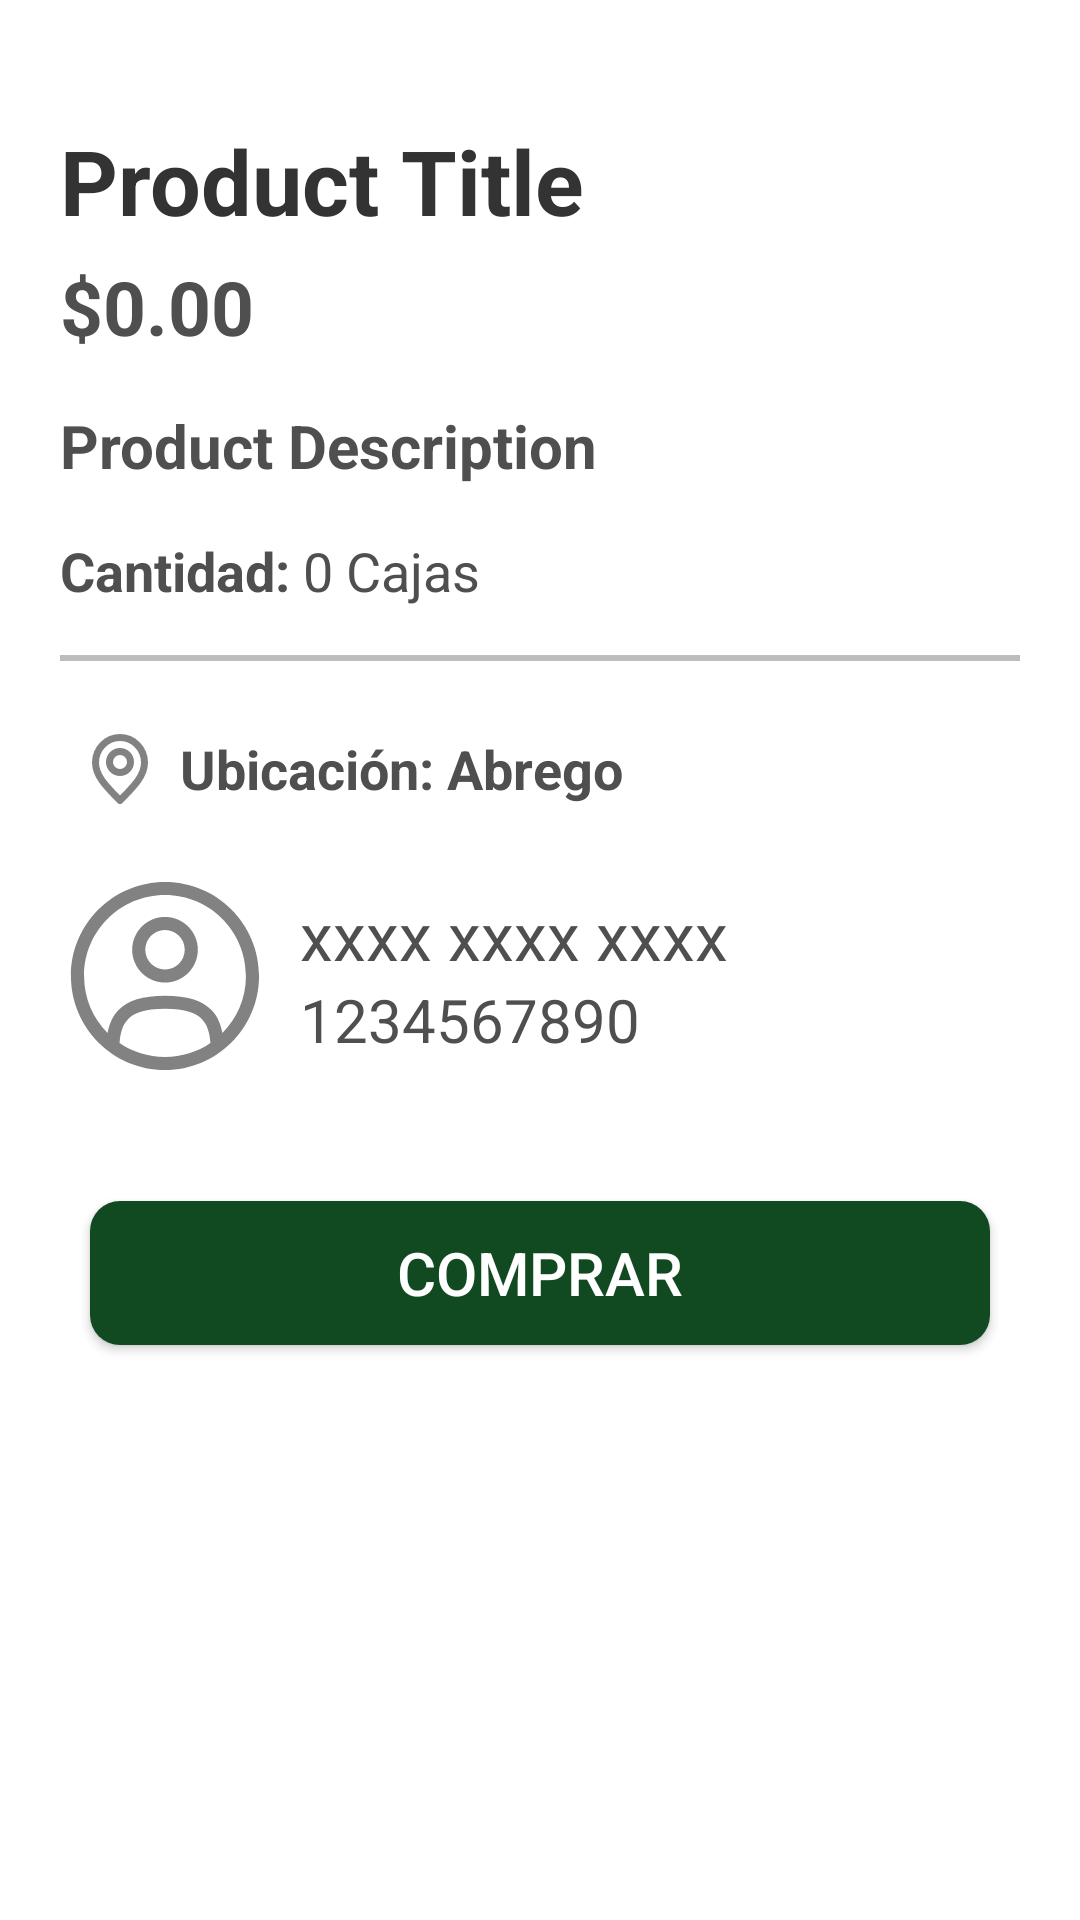

Where icons sit on this 1080 x 1920 app screen, as (x1, y1, x2, y2):
location: (92, 734, 148, 804)
user: (71, 882, 259, 1070)
